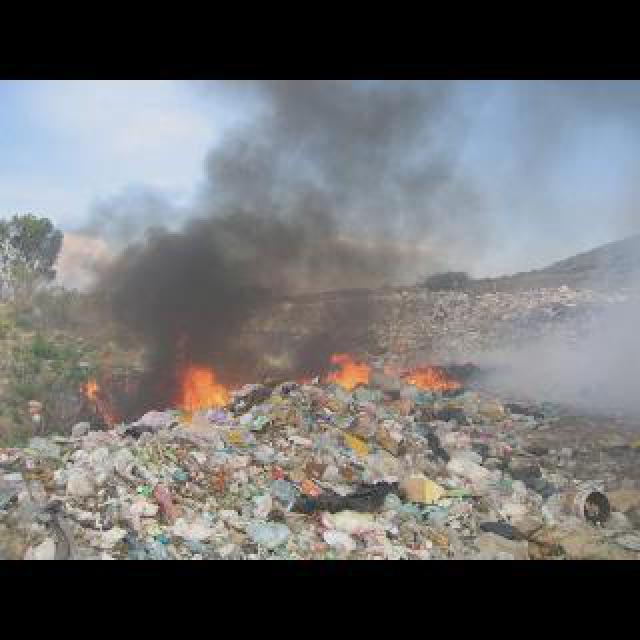Fire: (176, 360, 232, 416), (320, 344, 376, 388), (404, 360, 460, 396), (86, 380, 116, 430)
Smoke: (300, 80, 624, 344), (74, 170, 298, 366)
